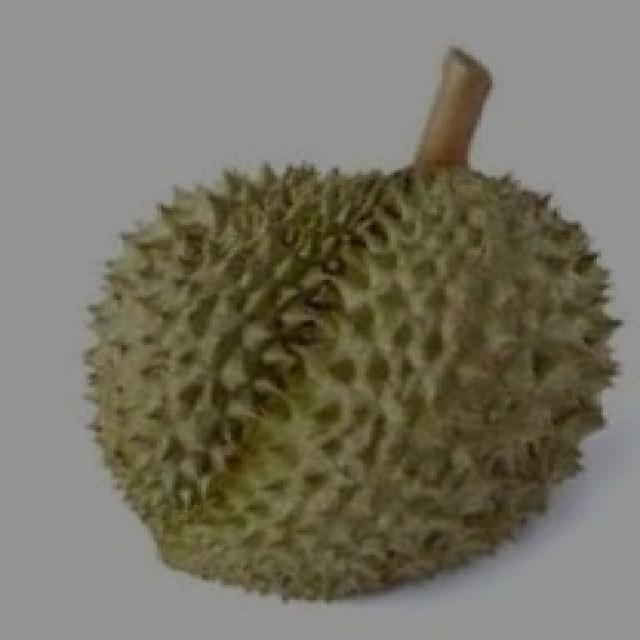fruit: (264, 219, 640, 632), (37, 265, 421, 637)
